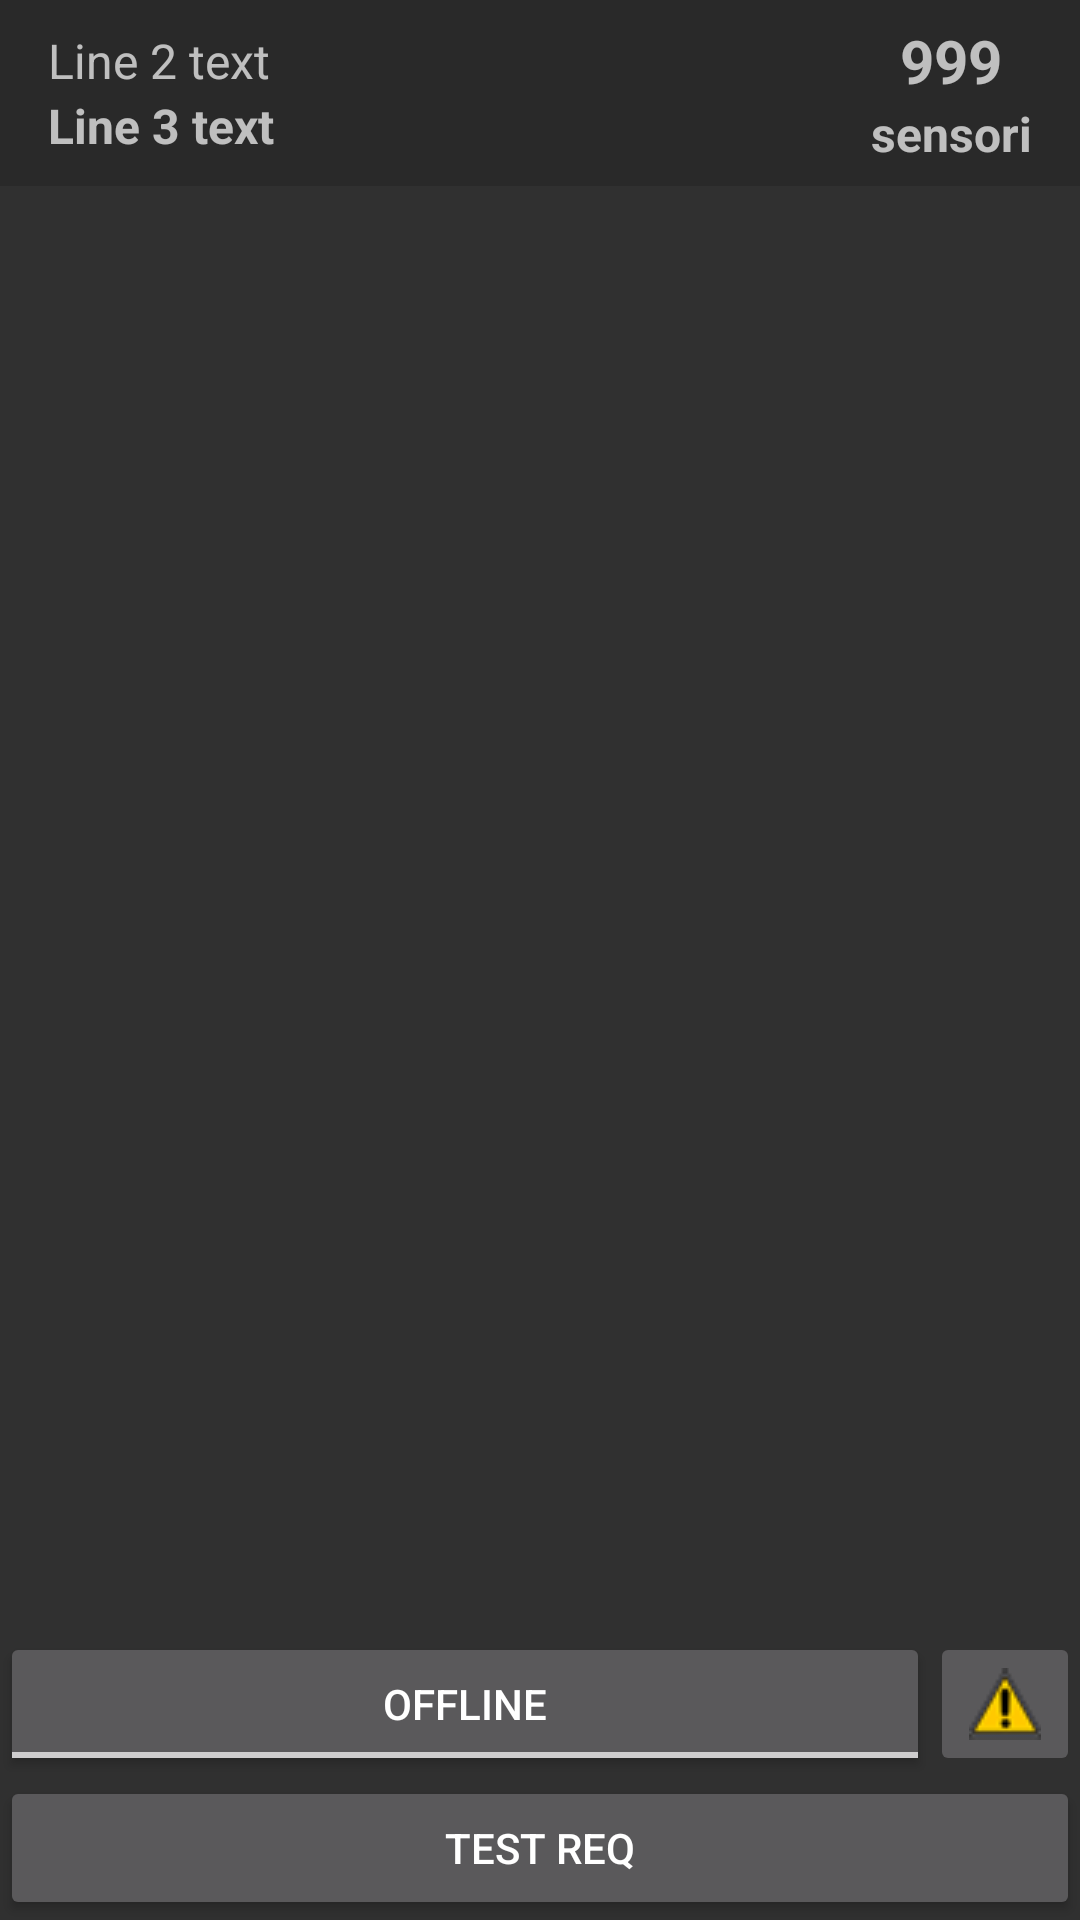

Named icons in this screenshot (1080×1920) and their bounding boxes, [x1,y1,x2,y2]:
danger: [942,1650,1068,1758]
